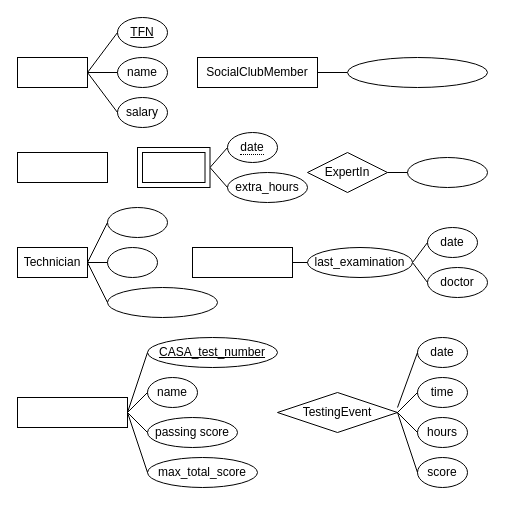
This 505x505 diagram has some shape labels left out. Here are the shapes that lost their labels. From the top down, the centre of each, then its label:
At point (52, 72): "Employee".
At point (417, 72): "membership_number".
At point (62, 167): "Ground Crew".
At point (173, 167): "ExtraWork".
At point (447, 172): "proficiency".
At point (137, 222): "address".
At point (132, 262): "email".
At point (242, 262): "Traffic controller".
At point (162, 302): "mobile_number".
At point (72, 412): "TestSpecification".
